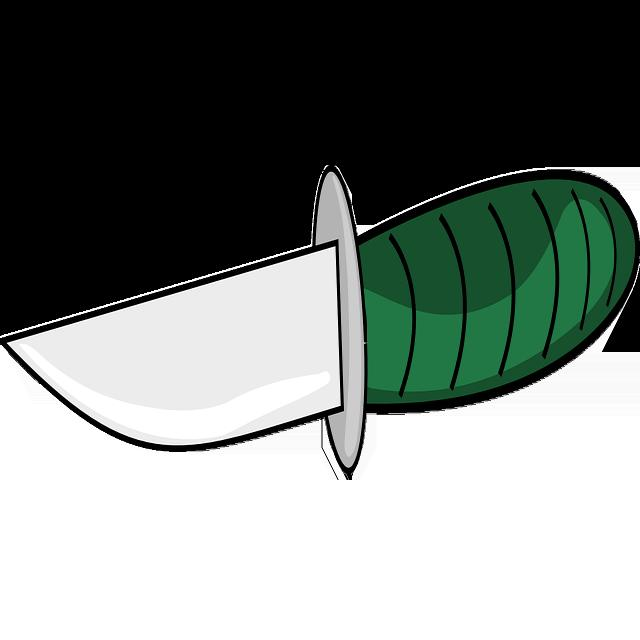Knife: (0, 165, 640, 478)
